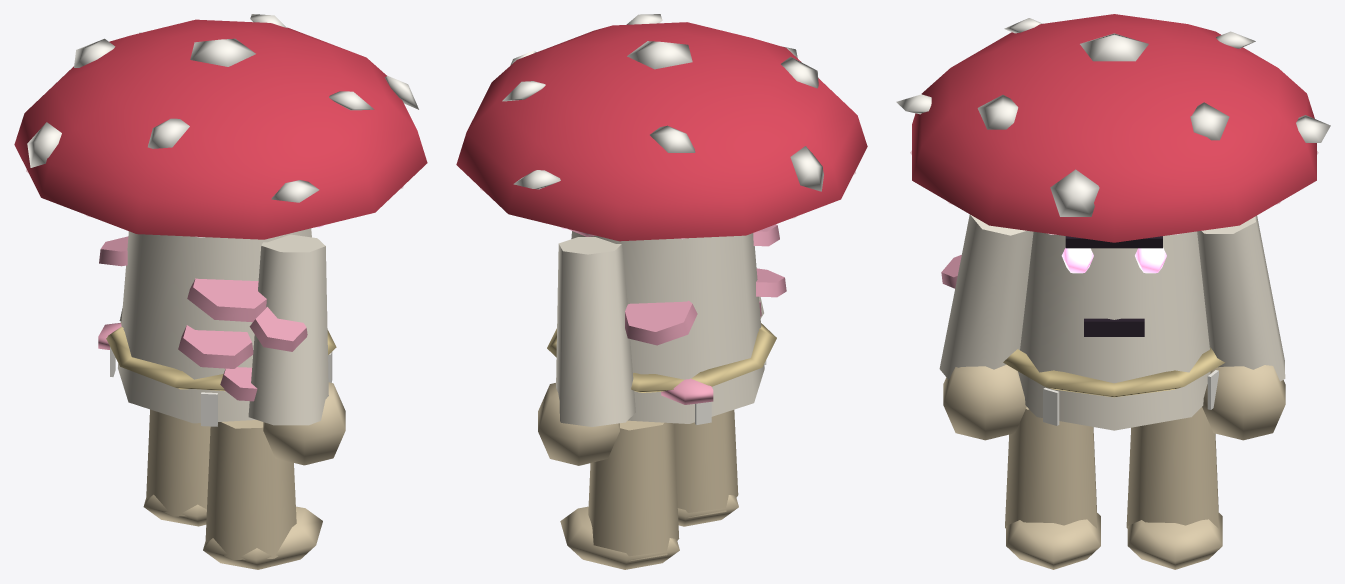
File: enemy_mushroomColossus.glb
The picture shows the model from 3 angles, left to right: view 1: azimuth 30°, elevation 25°; view 2: azimuth 150°, elevation 25°; view 3: azimuth 270°, elevation 25°; orthographic projection. The views are drawn at different scales.
Visible parts, largest first — view 1: cap, trunk, arm_r_mesh, leg_r_mesh, leg_l_mesh, arm_r_fist, bracket_0, leg_r_foot, bracket_1, shimenawa, arm_r_bracket, cap_dot_0 (+9 smaller); view 2: cap, trunk, arm_l_mesh, leg_l_mesh, leg_r_mesh, arm_l_fist, bracket_3, shimenawa, leg_l_foot, cap_dot_0, cap_dot_7, moss_0 (+5 smaller); view 3: cap, trunk, arm_r_mesh, arm_l_mesh, leg_l_mesh, leg_r_mesh, arm_r_fist, arm_l_fist, leg_l_foot, shimenawa, leg_r_foot, cap_dot_5 (+9 smaller).
Boxes of the visible parts, box(x1,y1,x2,y2) form: cap: box(14, 19, 427, 239); trunk: box(118, 228, 311, 423); arm_r_mesh: box(248, 234, 328, 425); leg_r_mesh: box(205, 420, 296, 559); leg_l_mesh: box(146, 409, 210, 516); arm_r_fist: box(263, 382, 345, 465); bracket_0: box(187, 278, 266, 322); leg_r_foot: box(203, 506, 322, 569); bracket_1: box(178, 325, 253, 368); shimenawa: box(106, 322, 336, 391); arm_r_bracket: box(249, 307, 307, 351); cap_dot_0: box(190, 38, 255, 66); cap: box(456, 22, 867, 241); trunk: box(571, 231, 764, 423); arm_l_mesh: box(556, 237, 635, 426); leg_l_mesh: box(588, 420, 679, 561); leg_r_mesh: box(674, 410, 738, 517); arm_l_fist: box(538, 383, 619, 465); bracket_3: box(625, 300, 697, 345); shimenawa: box(547, 323, 776, 392); leg_l_foot: box(560, 506, 679, 569); cap_dot_0: box(627, 41, 692, 69); cap_dot_7: box(790, 146, 823, 191); moss_0: box(661, 378, 713, 404); cap: box(912, 14, 1316, 242); trunk: box(1018, 231, 1210, 430); arm_r_mesh: box(939, 214, 1033, 379); arm_l_mesh: box(1197, 215, 1285, 381); leg_l_mesh: box(1126, 407, 1218, 528); leg_r_mesh: box(1005, 407, 1096, 528); arm_r_fist: box(943, 364, 1026, 440); arm_l_fist: box(1202, 365, 1285, 440); leg_l_foot: box(1127, 513, 1222, 569); shimenawa: box(1003, 347, 1224, 397); leg_r_foot: box(1006, 513, 1100, 569); cap_dot_5: box(1050, 169, 1099, 216).
Bounding box in the file's own units: 0.35 × 0.4663 × 0.3574.
